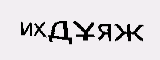Д: (45, 20, 72, 45)
Ж: (112, 22, 144, 43)
И: (18, 21, 35, 38)
Х: (32, 21, 47, 38)
Я: (95, 22, 113, 43)
Ұ: (71, 19, 96, 43)
